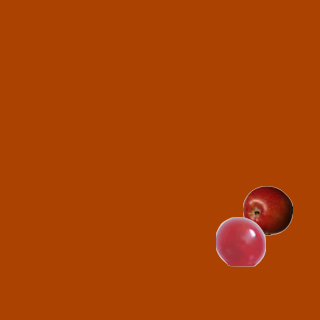Apple Braeburn: (242, 185, 292, 235)
Redcurrant: (215, 216, 265, 266)
